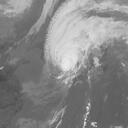cyclone: (44, 34, 92, 81)
